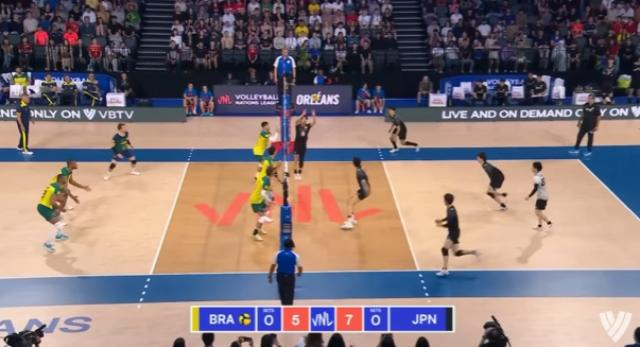Levantador: (248, 164, 282, 244), (294, 105, 316, 183)
Libero: (102, 120, 142, 180), (524, 159, 554, 233)
bola: (312, 92, 320, 104)
